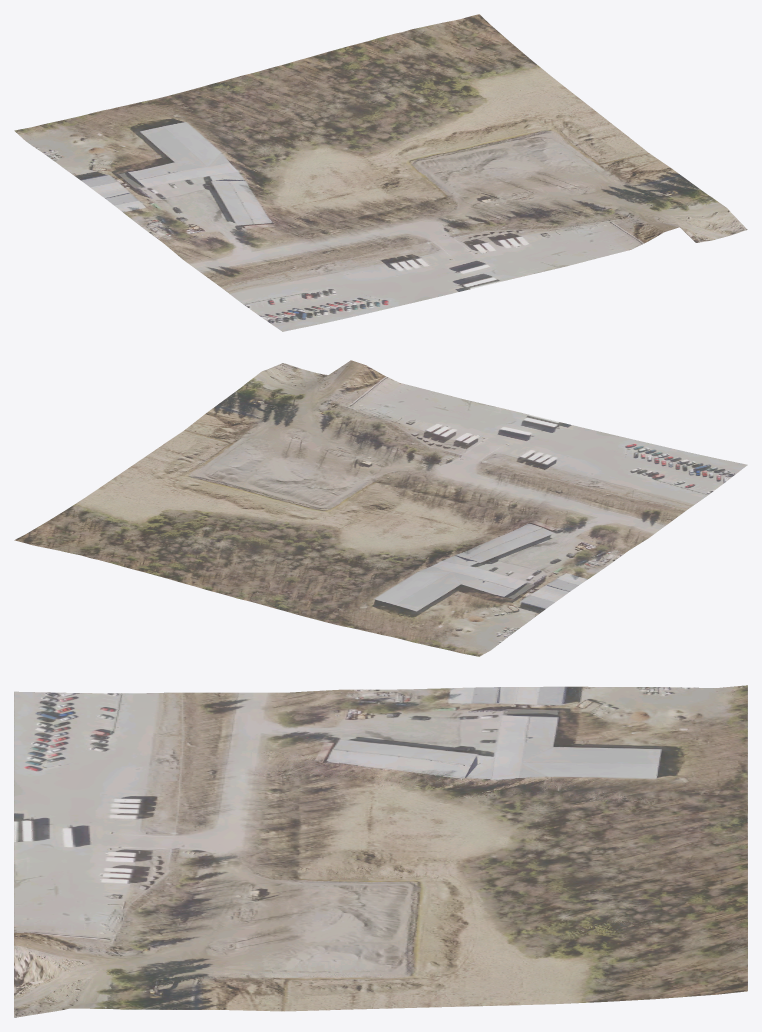
File: CM_Terrain_24493121_6816108.fbx
3 renders of one model, top to bottom at view 1: azimuth 30°, elevation 25°; view 2: azimuth 150°, elevation 25°; view 3: azimuth 270°, elevation 25°, orthographic. The views are drawn at different scales.
Visible parts, largest first — view 1: CM_Terrain_24493121_6816108_LOD0; view 2: CM_Terrain_24493121_6816108_LOD0; view 3: CM_Terrain_24493121_6816108_LOD0.
Part boxes in pixels (x1=…): CM_Terrain_24493121_6816108_LOD0: x1=14, y1=14, x2=747, y2=331; CM_Terrain_24493121_6816108_LOD0: x1=14, y1=360, x2=747, y2=656; CM_Terrain_24493121_6816108_LOD0: x1=14, y1=685, x2=747, y2=1017.
Size of what is drawn, in the model's own units: 205 by 9.39 by 205.
